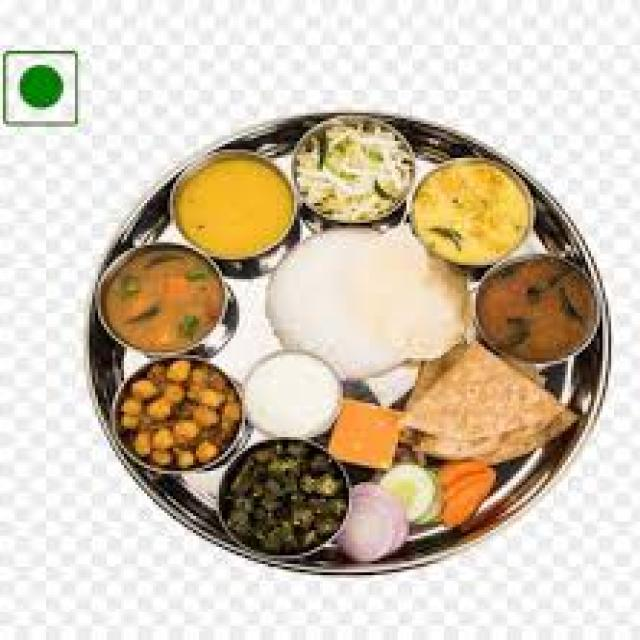curd: (237, 344, 351, 445)
dal: (95, 251, 235, 361), (410, 157, 544, 264), (166, 156, 302, 261)
papad: (264, 227, 459, 371), (401, 341, 575, 470)
raita: (239, 348, 350, 440)
rice: (296, 114, 419, 227)
roti: (402, 341, 574, 471)
sambar-rasam: (467, 247, 603, 372)
